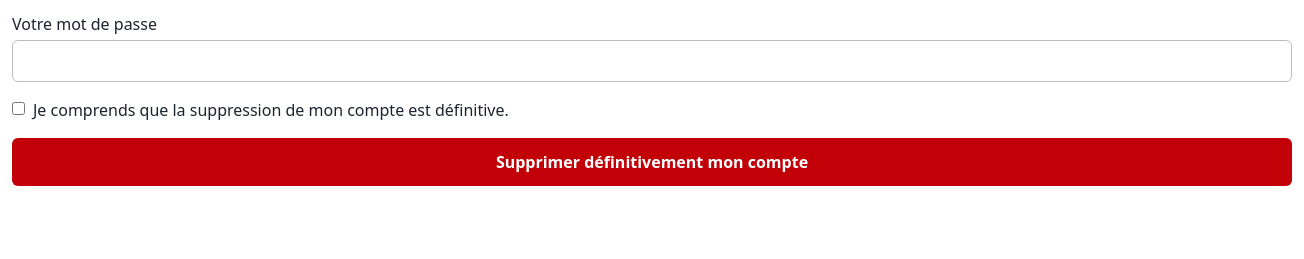
Test: DeleteAccountForm › deletes nothing until the box is ticked
Type "mon mot de passe" into the password field labelled "Votre mot de passe" at (652, 61), box [12,40,1292,82]
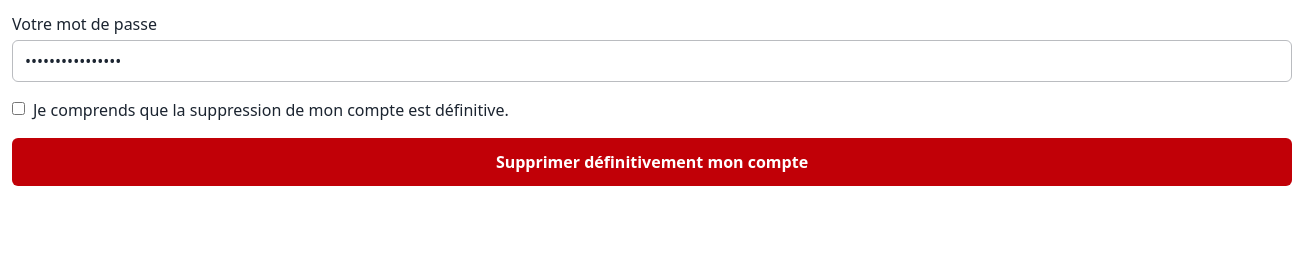
Click the button "Supprimer définitivement mon compte" at (652, 162), box [12,138,1292,186]
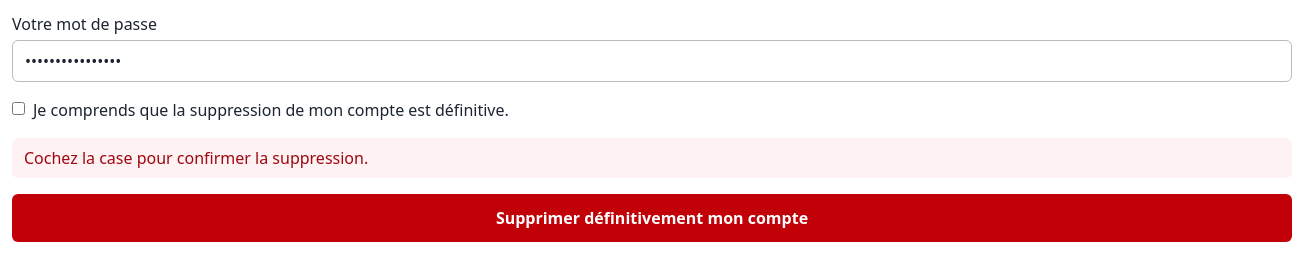
Check: the message reads "Cochez la case pour confirmer la suppression.", box [24,147,368,169]
